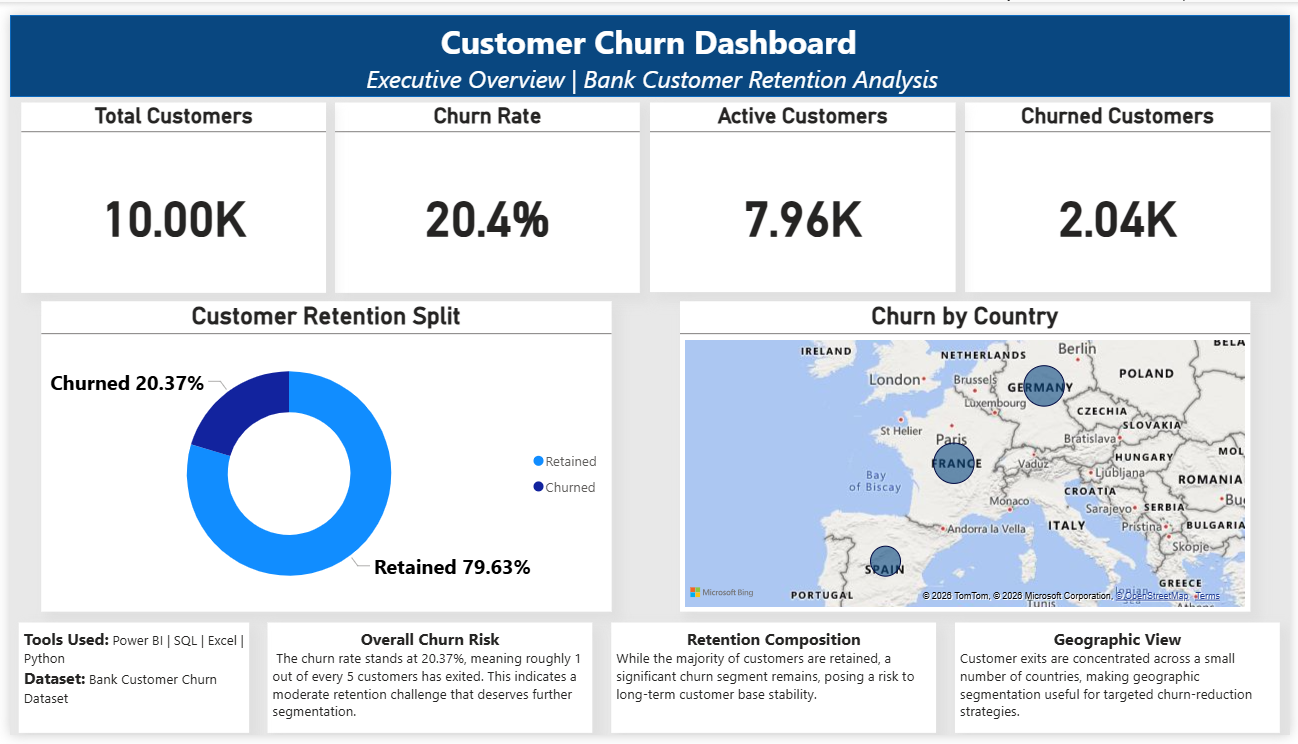

The page's visual inventory and layout, read from the dashboard file:
{"tool":"powerbi","page":{"name":"Page 1","canvas":[1280,720],"ordinal":0},"visuals":[{"type":"card","title":"Churn Rate","fields":{"Values":["churn_cleaned.churn rate %"]},"box":[325,87.6,305,190],"z":0},{"type":"card","title":"Churned Customers","fields":{"Values":["churn_cleaned.churned customers"]},"box":[954.7,87.6,305.3,189.3],"z":1000},{"type":"card","title":"Active Customers","fields":{"Values":["churn_cleaned.active customers"]},"box":[640,87.6,305.3,189.3],"z":2000},{"type":"card","title":"Total Customers","fields":{"Values":["churn_cleaned.total customers"]},"box":[11.2,87.6,305,190],"z":3000},{"type":"donutChart","title":"Customer Retention Split","fields":{"Category":["churn_cleaned.churn_status"],"Y":["Count(churn_cleaned.customer_id)"]},"box":[31.2,286.2,570,310],"z":4000},{"type":"map","title":"Churn by Country","fields":{"Category":["churn_cleaned.geography"],"Size":["churn_cleaned.Churned Customers"]},"box":[670,286.2,570,310],"z":5000},{"type":"shape","box":[0,0,1280,82],"z":6000},{"type":"textbox","box":[278.8,0,720,92.5],"z":7000},{"type":"textbox","box":[257.5,607.5,325,110],"z":8000},{"type":"textbox","box":[601.2,607.5,325,110],"z":9000},{"type":"textbox","box":[945,607.5,325,110],"z":10000},{"type":"textbox","box":[8.8,607.5,230,110],"z":11000}]}

Visuals, with their boxes in screenshot pixels (x1, y1, x2, y2), scaled from the page's 1280x720 canvas onto the 1298x744 screenshot:
"Churn Rate" card: l=330, t=91, r=639, b=287
"Churned Customers" card: l=968, t=91, r=1278, b=286
"Active Customers" card: l=649, t=91, r=959, b=286
"Total Customers" card: l=11, t=91, r=321, b=287
"Customer Retention Split" donutChart: l=32, t=296, r=610, b=616
"Churn by Country" map: l=679, t=296, r=1257, b=616
shape: l=0, t=0, r=1297, b=85
textbox: l=283, t=0, r=1013, b=96
textbox: l=261, t=628, r=591, b=741
textbox: l=610, t=628, r=939, b=741
textbox: l=958, t=628, r=1288, b=741
textbox: l=9, t=628, r=242, b=741
